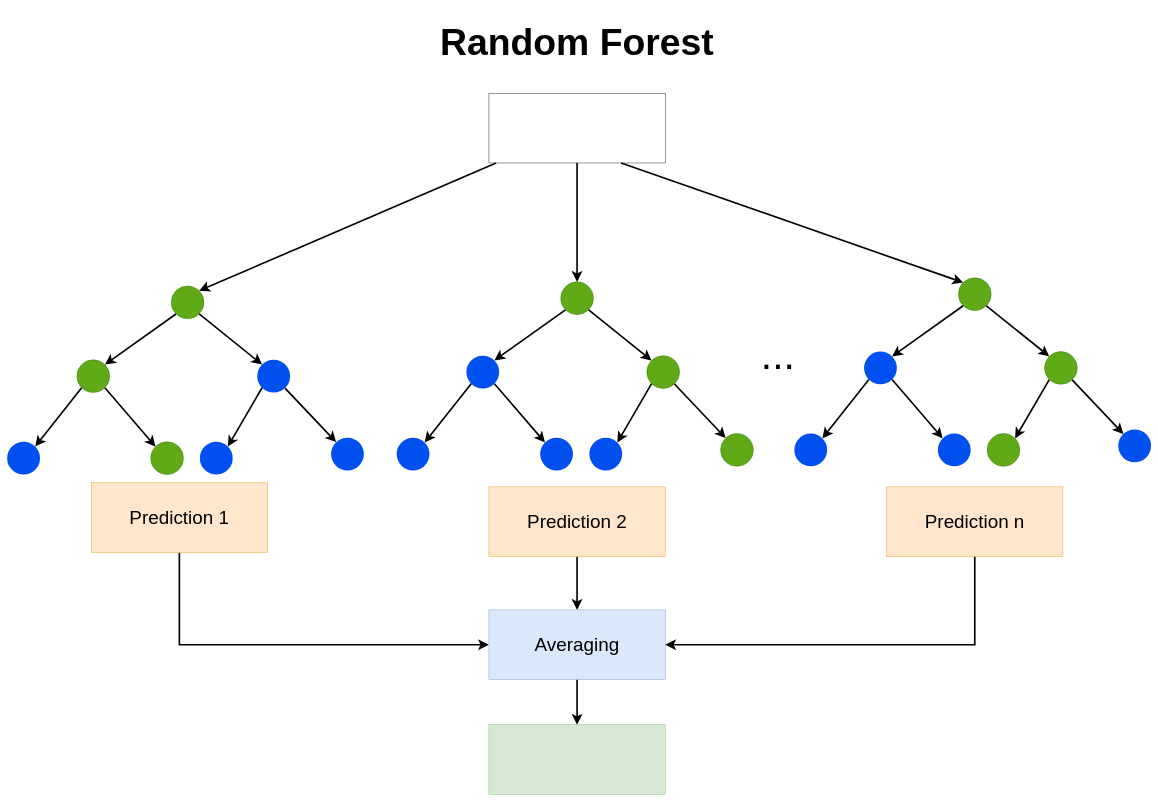
Some shapes in this 1158 by 802 pixel diagram are drawn without their labels. Each missing label, with the box of its shape:
Dataset: (489, 93, 665, 163)
Result: (489, 724, 665, 794)
